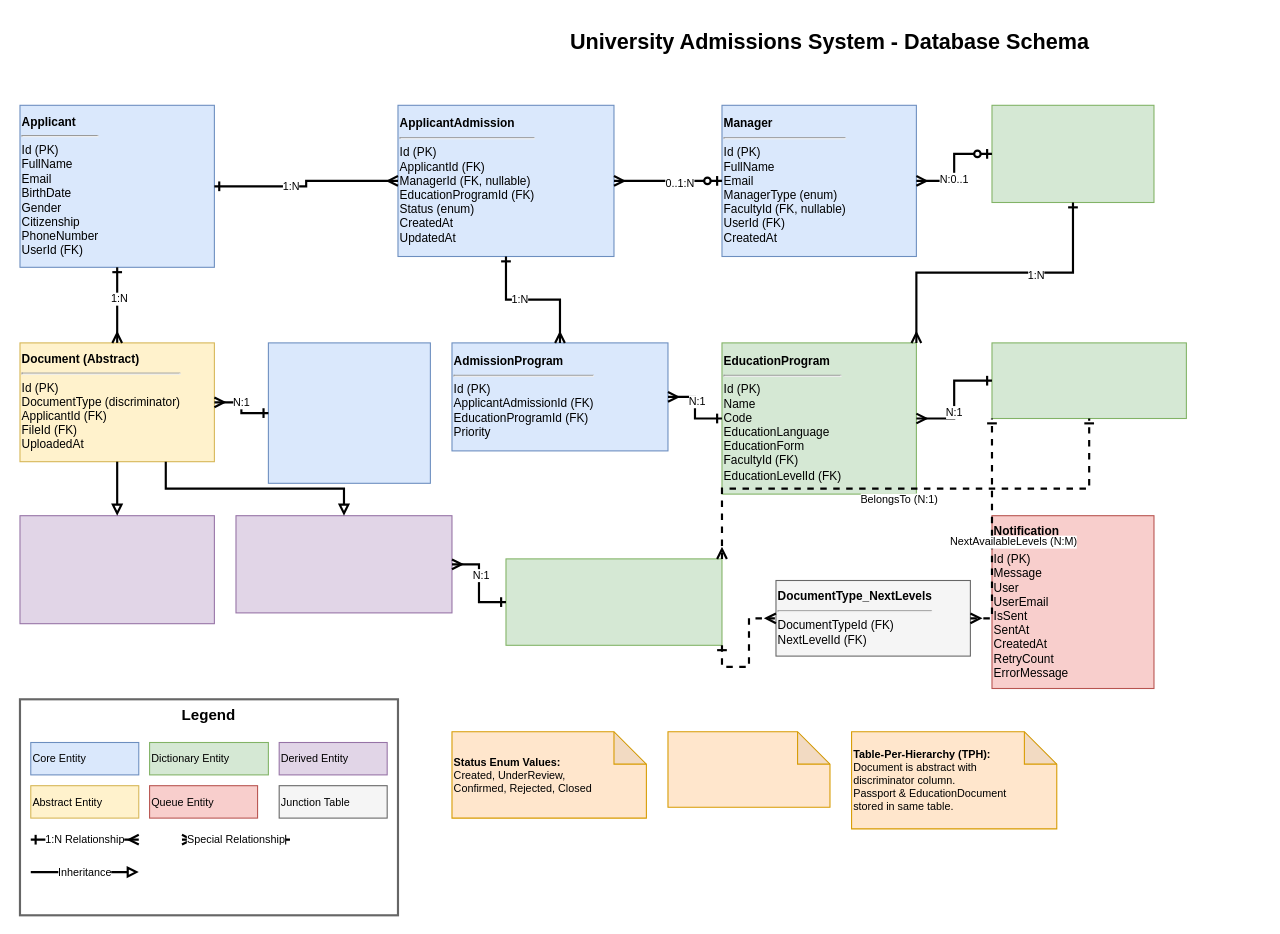
The diagram is 1280 pixels wide and 934 high, and some of its shapes have lost their labels. The shapes that lost their labels are listed below. From the top down, each one's centre as x and y in pixels, then its label:
At point (1072, 153): "Faculty Id (PK) Name Code Description".
At point (1088, 380): "EducationLevel Id (PK) Name (Bachelor/Master/PhD)".
At point (348, 412): "File Id (PK) FileName FilePath MimeType FileSize StorageLocation UploadedAt".
At point (116, 569): "Passport (extends Document) SeriesNumber PlaceOfBirth IssuedDate IssuedBy".
At point (343, 564): "EducationDocument (extends Document) Name EducationDocumentTypeId (FK)".
At point (613, 601): "EducationDocumentType Id (PK) Name BelongsToLevelId (FK)".
At point (748, 769): "ManagerType Enum: FacultyManager, HeadManager".
